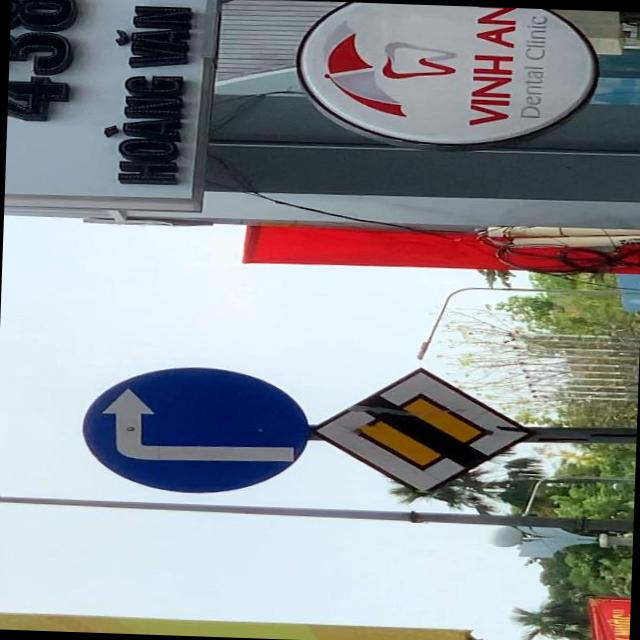R-301d: (81, 364, 309, 496)
